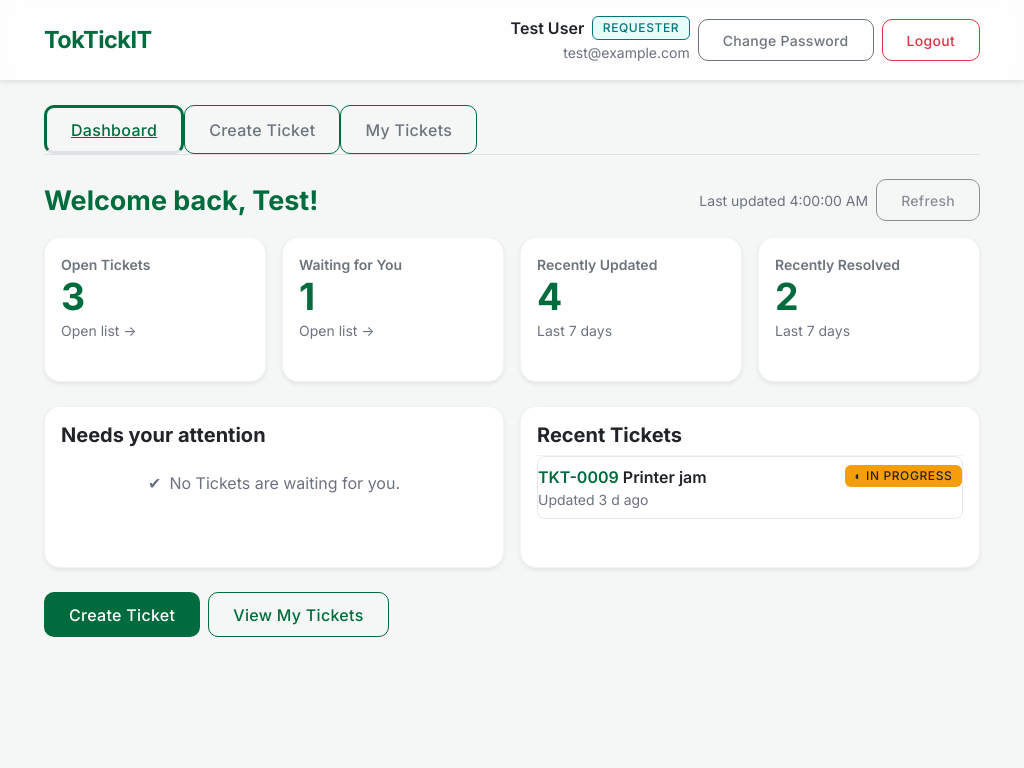
Test: UI-25: role navigation, landing page and dashboard drill-down (Issue #33) › a Requester card opens My Tickets with its filter: Open Tickets sends status=Active and the list shows it
The width and height of the screenshot is (1024, 768).
Step 1. Click the link "Open Tickets 3 Open list →" → (155,310), box [44, 237, 266, 382]
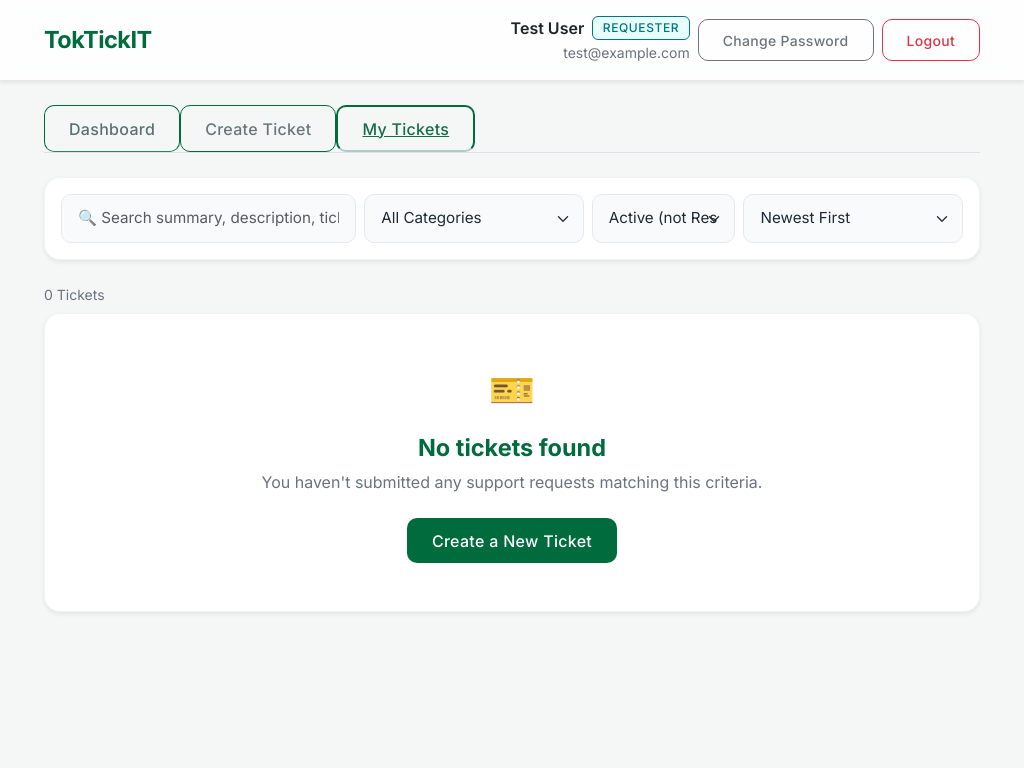
Expected: the 2nd dropdown showing "Active" is shown, [592, 194, 736, 243]
Expected: the text with test id "my-tickets-total" reads "0 Tickets", [44, 286, 105, 303]
